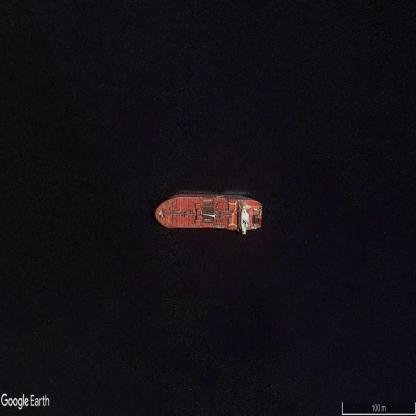ship: (154, 195, 262, 232)
